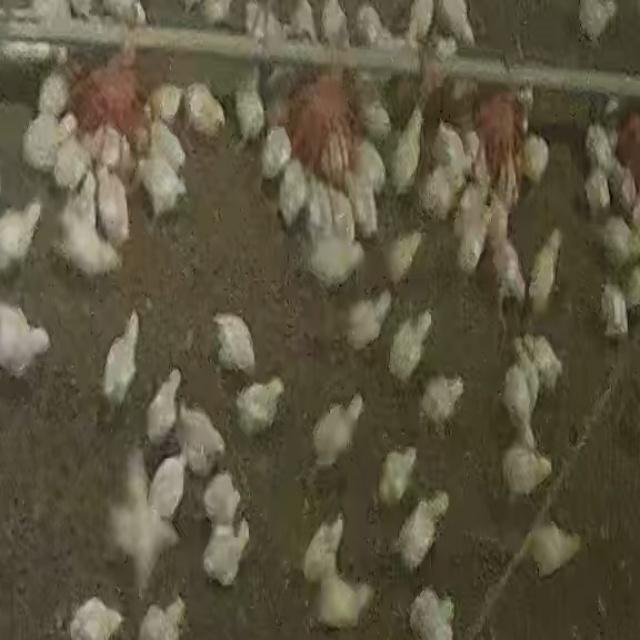chicken: (107, 454, 176, 594), (304, 518, 375, 630), (56, 182, 122, 282), (394, 492, 451, 570), (311, 394, 366, 470), (90, 164, 134, 246), (178, 402, 226, 477), (139, 146, 186, 222), (104, 310, 142, 400), (388, 310, 434, 384), (524, 518, 581, 577), (1, 199, 44, 275), (80, 123, 138, 179), (341, 290, 393, 352), (503, 360, 538, 452), (148, 451, 189, 529), (389, 105, 426, 190), (204, 518, 250, 586), (305, 232, 366, 283), (145, 363, 183, 442), (21, 110, 65, 177), (501, 443, 552, 500), (212, 310, 256, 374), (454, 188, 487, 272), (202, 470, 245, 534), (494, 230, 528, 310), (344, 170, 382, 234), (420, 374, 464, 429), (378, 446, 418, 506), (148, 118, 188, 178), (236, 380, 283, 430), (532, 230, 562, 308), (234, 74, 268, 142), (185, 82, 226, 138), (413, 588, 457, 640), (278, 155, 311, 224), (56, 126, 89, 192), (302, 169, 329, 249), (437, 126, 477, 180), (528, 330, 564, 388), (325, 177, 356, 244), (260, 111, 288, 183), (436, 1, 479, 47), (386, 230, 423, 283), (514, 331, 540, 405), (461, 128, 489, 194), (582, 158, 612, 215), (488, 188, 513, 256), (600, 283, 630, 339), (37, 67, 70, 116), (602, 217, 639, 260), (522, 132, 550, 188), (577, 0, 614, 42), (428, 168, 462, 212), (354, 3, 384, 45), (591, 121, 616, 171), (320, 0, 348, 44)
